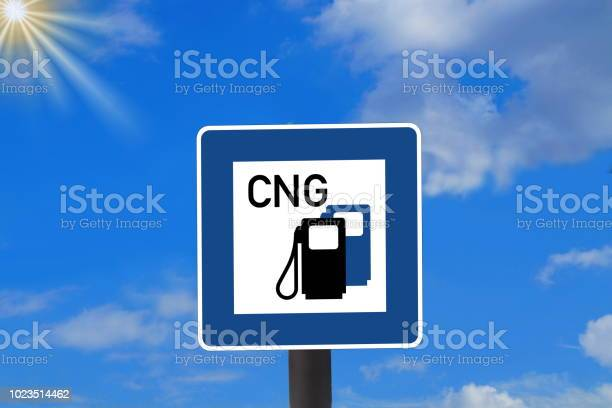fuel-station: (232, 162, 386, 311)
